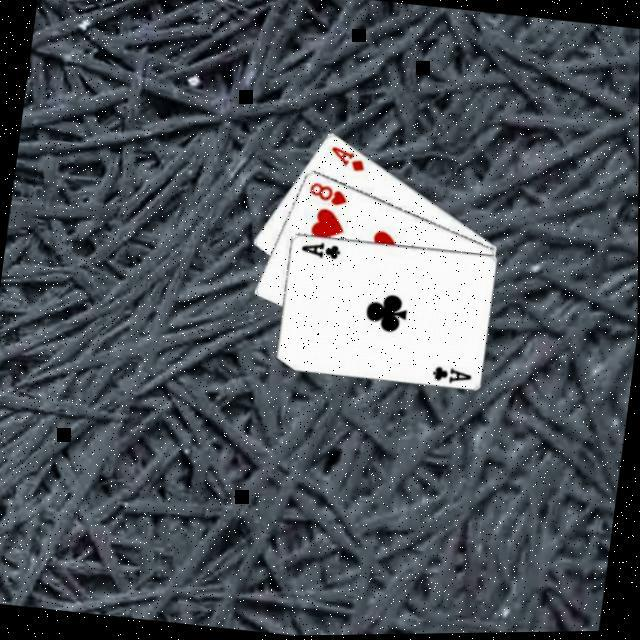8H: (307, 179, 354, 211)
AC: (299, 238, 345, 264), (429, 364, 476, 389)
AD: (326, 144, 371, 178)
